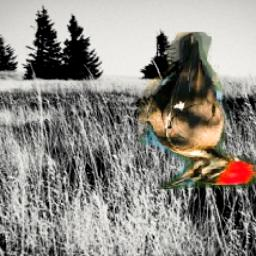Woodpecker: (134, 32, 256, 189)
